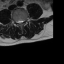CCS_stenosis: (19, 18, 21, 26)
LFS_normal: (23, 17, 25, 23)
LLS_normal: (21, 18, 23, 25)
RFS_normal: (15, 18, 17, 24)
RLS_normal: (17, 18, 19, 25)
